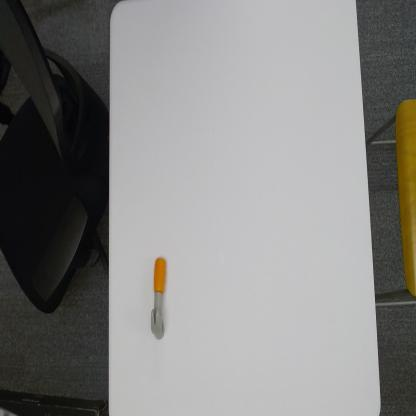Hammer: (150, 256, 167, 342)
